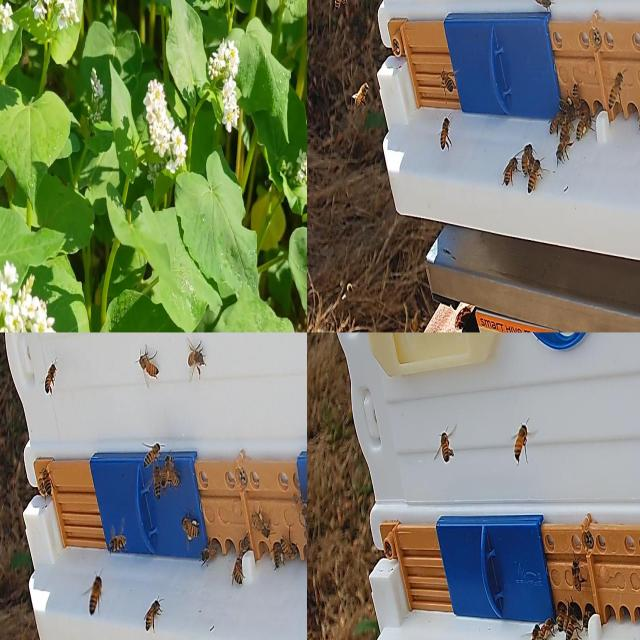honeybee: (186, 338, 207, 379), (512, 423, 530, 467), (137, 351, 160, 383), (108, 520, 128, 555), (435, 430, 455, 462), (251, 509, 270, 542), (146, 595, 163, 628), (44, 363, 60, 397), (607, 72, 622, 108), (570, 556, 584, 594), (182, 515, 200, 544), (38, 468, 53, 502), (90, 572, 102, 612), (528, 156, 541, 192), (353, 80, 369, 108), (200, 539, 217, 564), (563, 601, 576, 633), (144, 439, 158, 468), (232, 557, 246, 586), (440, 115, 451, 151), (280, 538, 296, 561), (556, 602, 568, 632), (521, 144, 533, 174), (576, 114, 591, 138), (566, 615, 580, 640), (556, 135, 570, 160), (504, 155, 516, 184), (441, 71, 454, 97), (540, 619, 556, 640), (238, 534, 250, 561), (560, 113, 573, 137), (153, 465, 162, 499), (271, 541, 282, 568), (572, 82, 582, 110), (550, 113, 564, 132), (167, 469, 178, 489), (582, 610, 593, 628), (161, 464, 169, 488), (333, 0, 349, 12), (560, 98, 570, 115), (532, 624, 539, 640), (167, 454, 173, 472)
